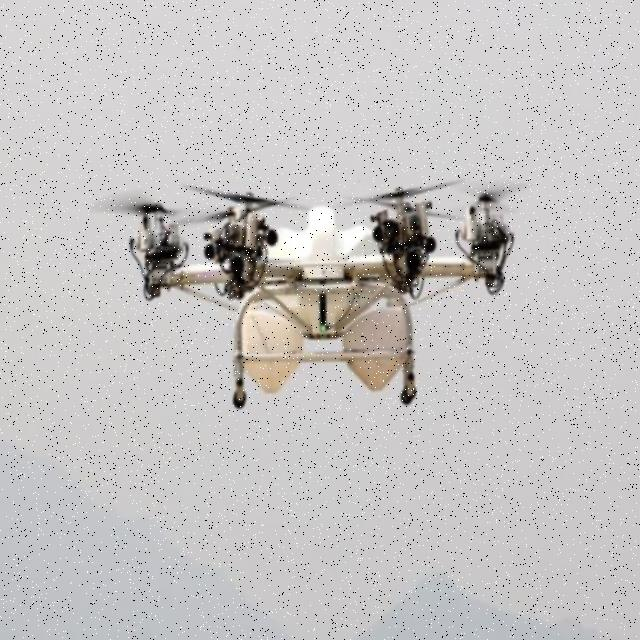UAV: (137, 166, 511, 413)
